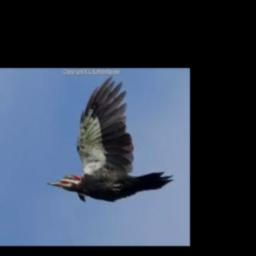Woodpecker: (46, 76, 174, 201)
